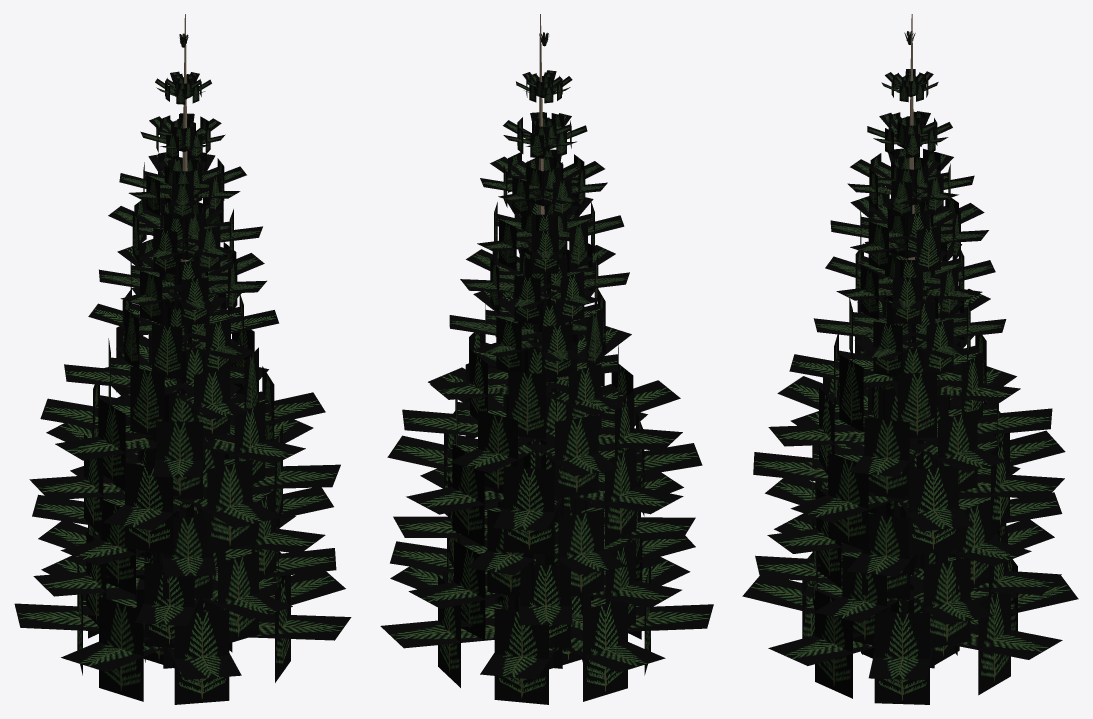
Rendered from Spruce_0_LOD1.glb.
The picture shows the model from 3 angles, left to right: view 1: azimuth 30°, elevation 25°; view 2: azimuth 150°, elevation 25°; view 3: azimuth 270°, elevation 25°; orthographic projection.
Visible parts, largest first — view 1: Spruce_0_LOD1; view 2: Spruce_0_LOD1; view 3: Spruce_0_LOD1.
Boxes of the visible parts, x1,y1,x2,y2 form: Spruce_0_LOD1: (14, 14, 351, 704); Spruce_0_LOD1: (380, 14, 713, 704); Spruce_0_LOD1: (742, 14, 1078, 704).
Bounding box in the file's own units: 9.81 × 21 × 9.86.
2 materials, 1 textured.
